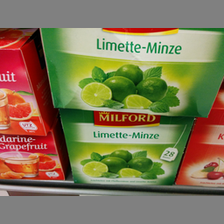tea: (39, 28, 224, 119), (58, 107, 196, 189)
